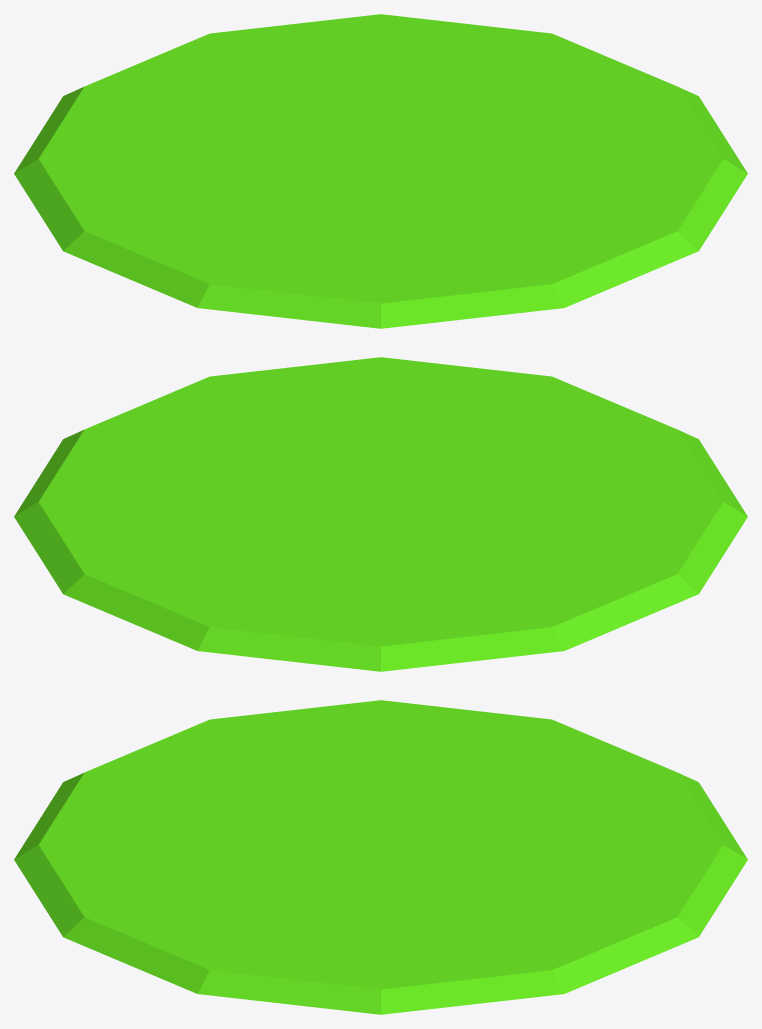
File: Selection.fbx
3 renders of one model, top to bottom at view 1: azimuth 30°, elevation 25°; view 2: azimuth 150°, elevation 25°; view 3: azimuth 270°, elevation 25°, orthographic.
Parts seen in each view (by area): view 1: Cylinder; view 2: Cylinder; view 3: Cylinder.
Boxes of the visible parts, bbox=[...] form: Cylinder: bbox=[14, 14, 747, 328]; Cylinder: bbox=[14, 357, 747, 671]; Cylinder: bbox=[14, 700, 747, 1014].
Size of the model in its own units: 200 by 4.48 by 200.
